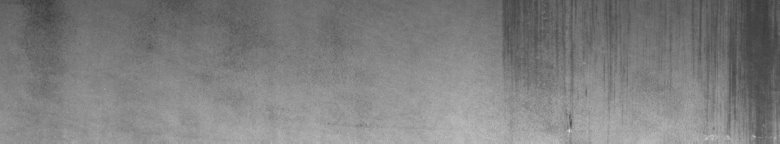ka: (498, 4, 617, 133)
